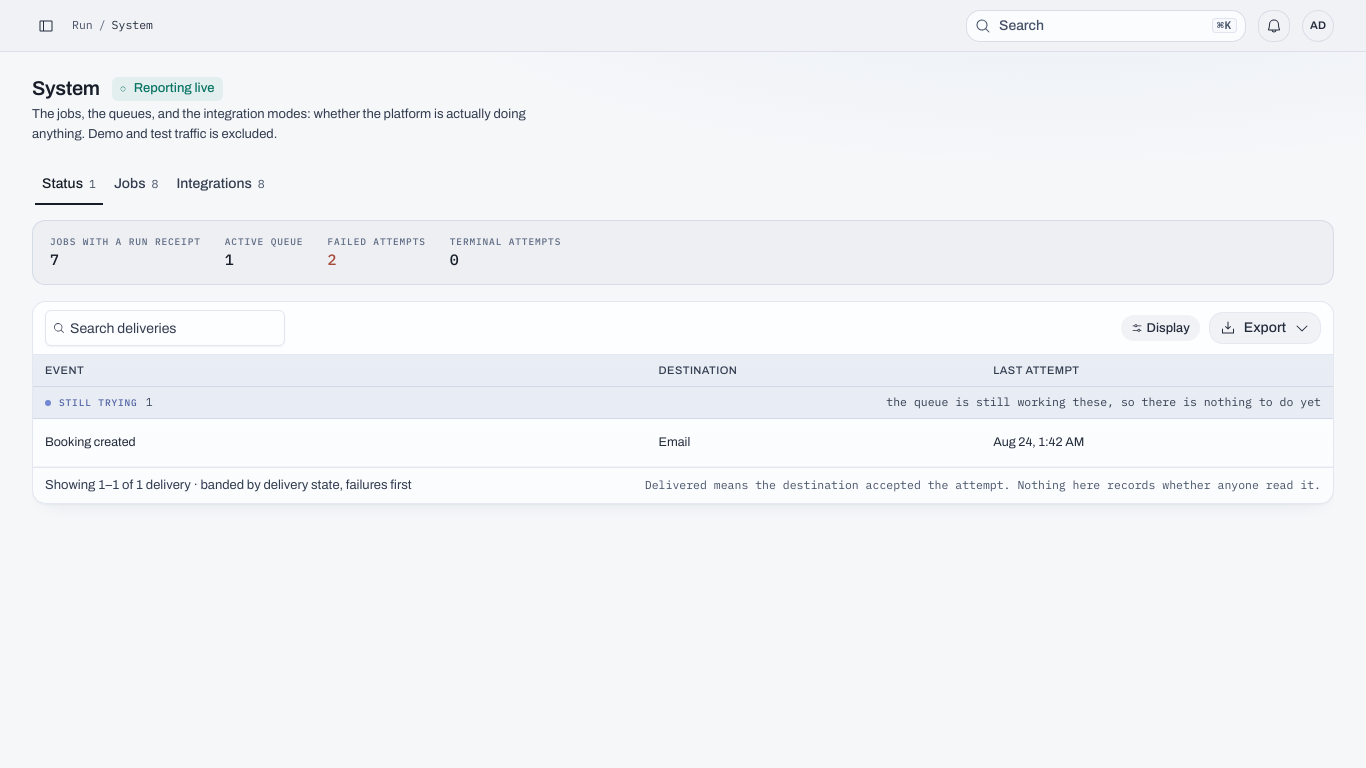
Test: AdminSystemHealth › says why a failed job failed, on its row and verbatim behind the fold
Click the tab "Jobs 8": (136, 184) [107, 172, 165, 196]
(page scrolled)
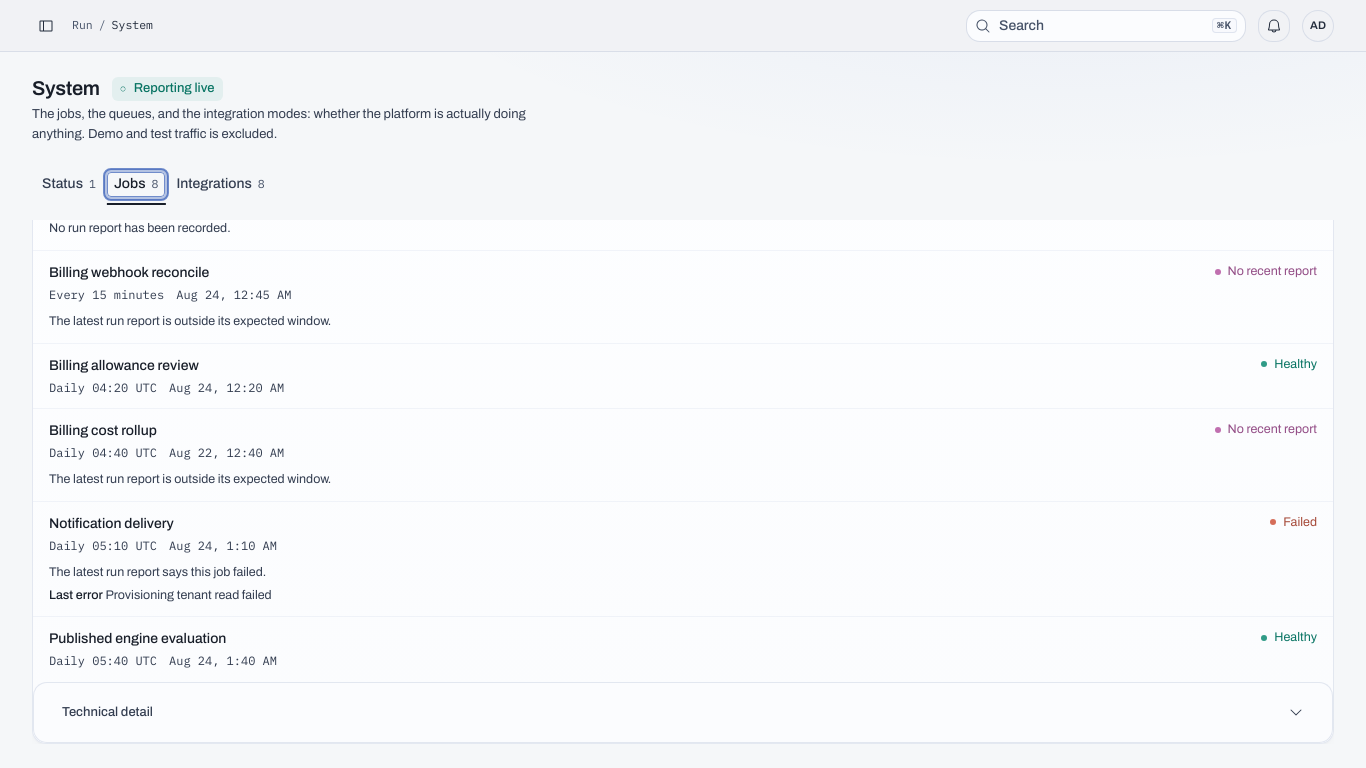
Expected: the element with test id "system-job-row" that starts with "Notification delivery" is shown, [49, 514, 1317, 604]
Expected: the text "Provisioning tenant read failed" is shown, [105, 588, 272, 602]
Expected: the text "Last error" is shown once, [49, 588, 103, 602]
